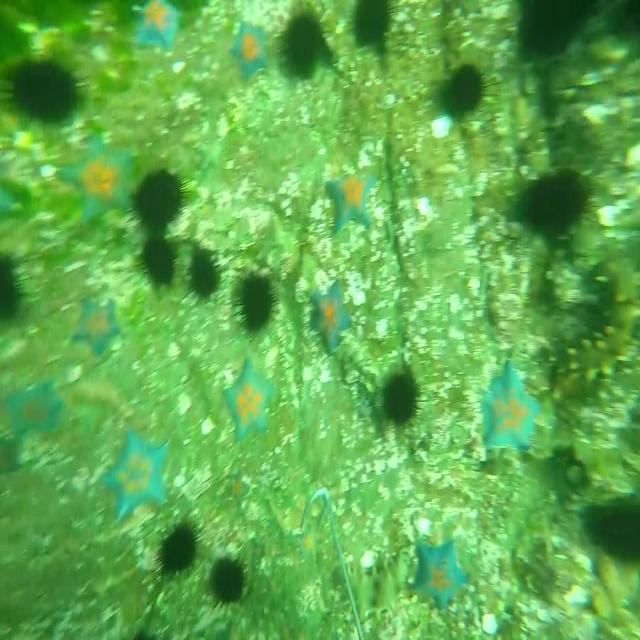echinus: (0, 52, 85, 132), (514, 161, 592, 241), (516, 0, 601, 63), (128, 165, 189, 236), (274, 8, 331, 83), (376, 364, 432, 434), (230, 264, 282, 339), (150, 517, 204, 588), (445, 60, 501, 118), (205, 551, 249, 619), (137, 231, 180, 293), (184, 241, 224, 305), (0, 244, 31, 325), (351, 0, 400, 48)
holothurian: (547, 256, 640, 391), (335, 547, 408, 623)
starfish: (56, 139, 137, 227), (96, 426, 170, 522), (477, 360, 542, 453), (222, 353, 276, 445), (411, 536, 468, 616), (321, 166, 379, 239), (308, 275, 354, 357), (69, 293, 122, 361), (6, 379, 62, 442), (229, 20, 270, 86), (132, 1, 182, 55)
